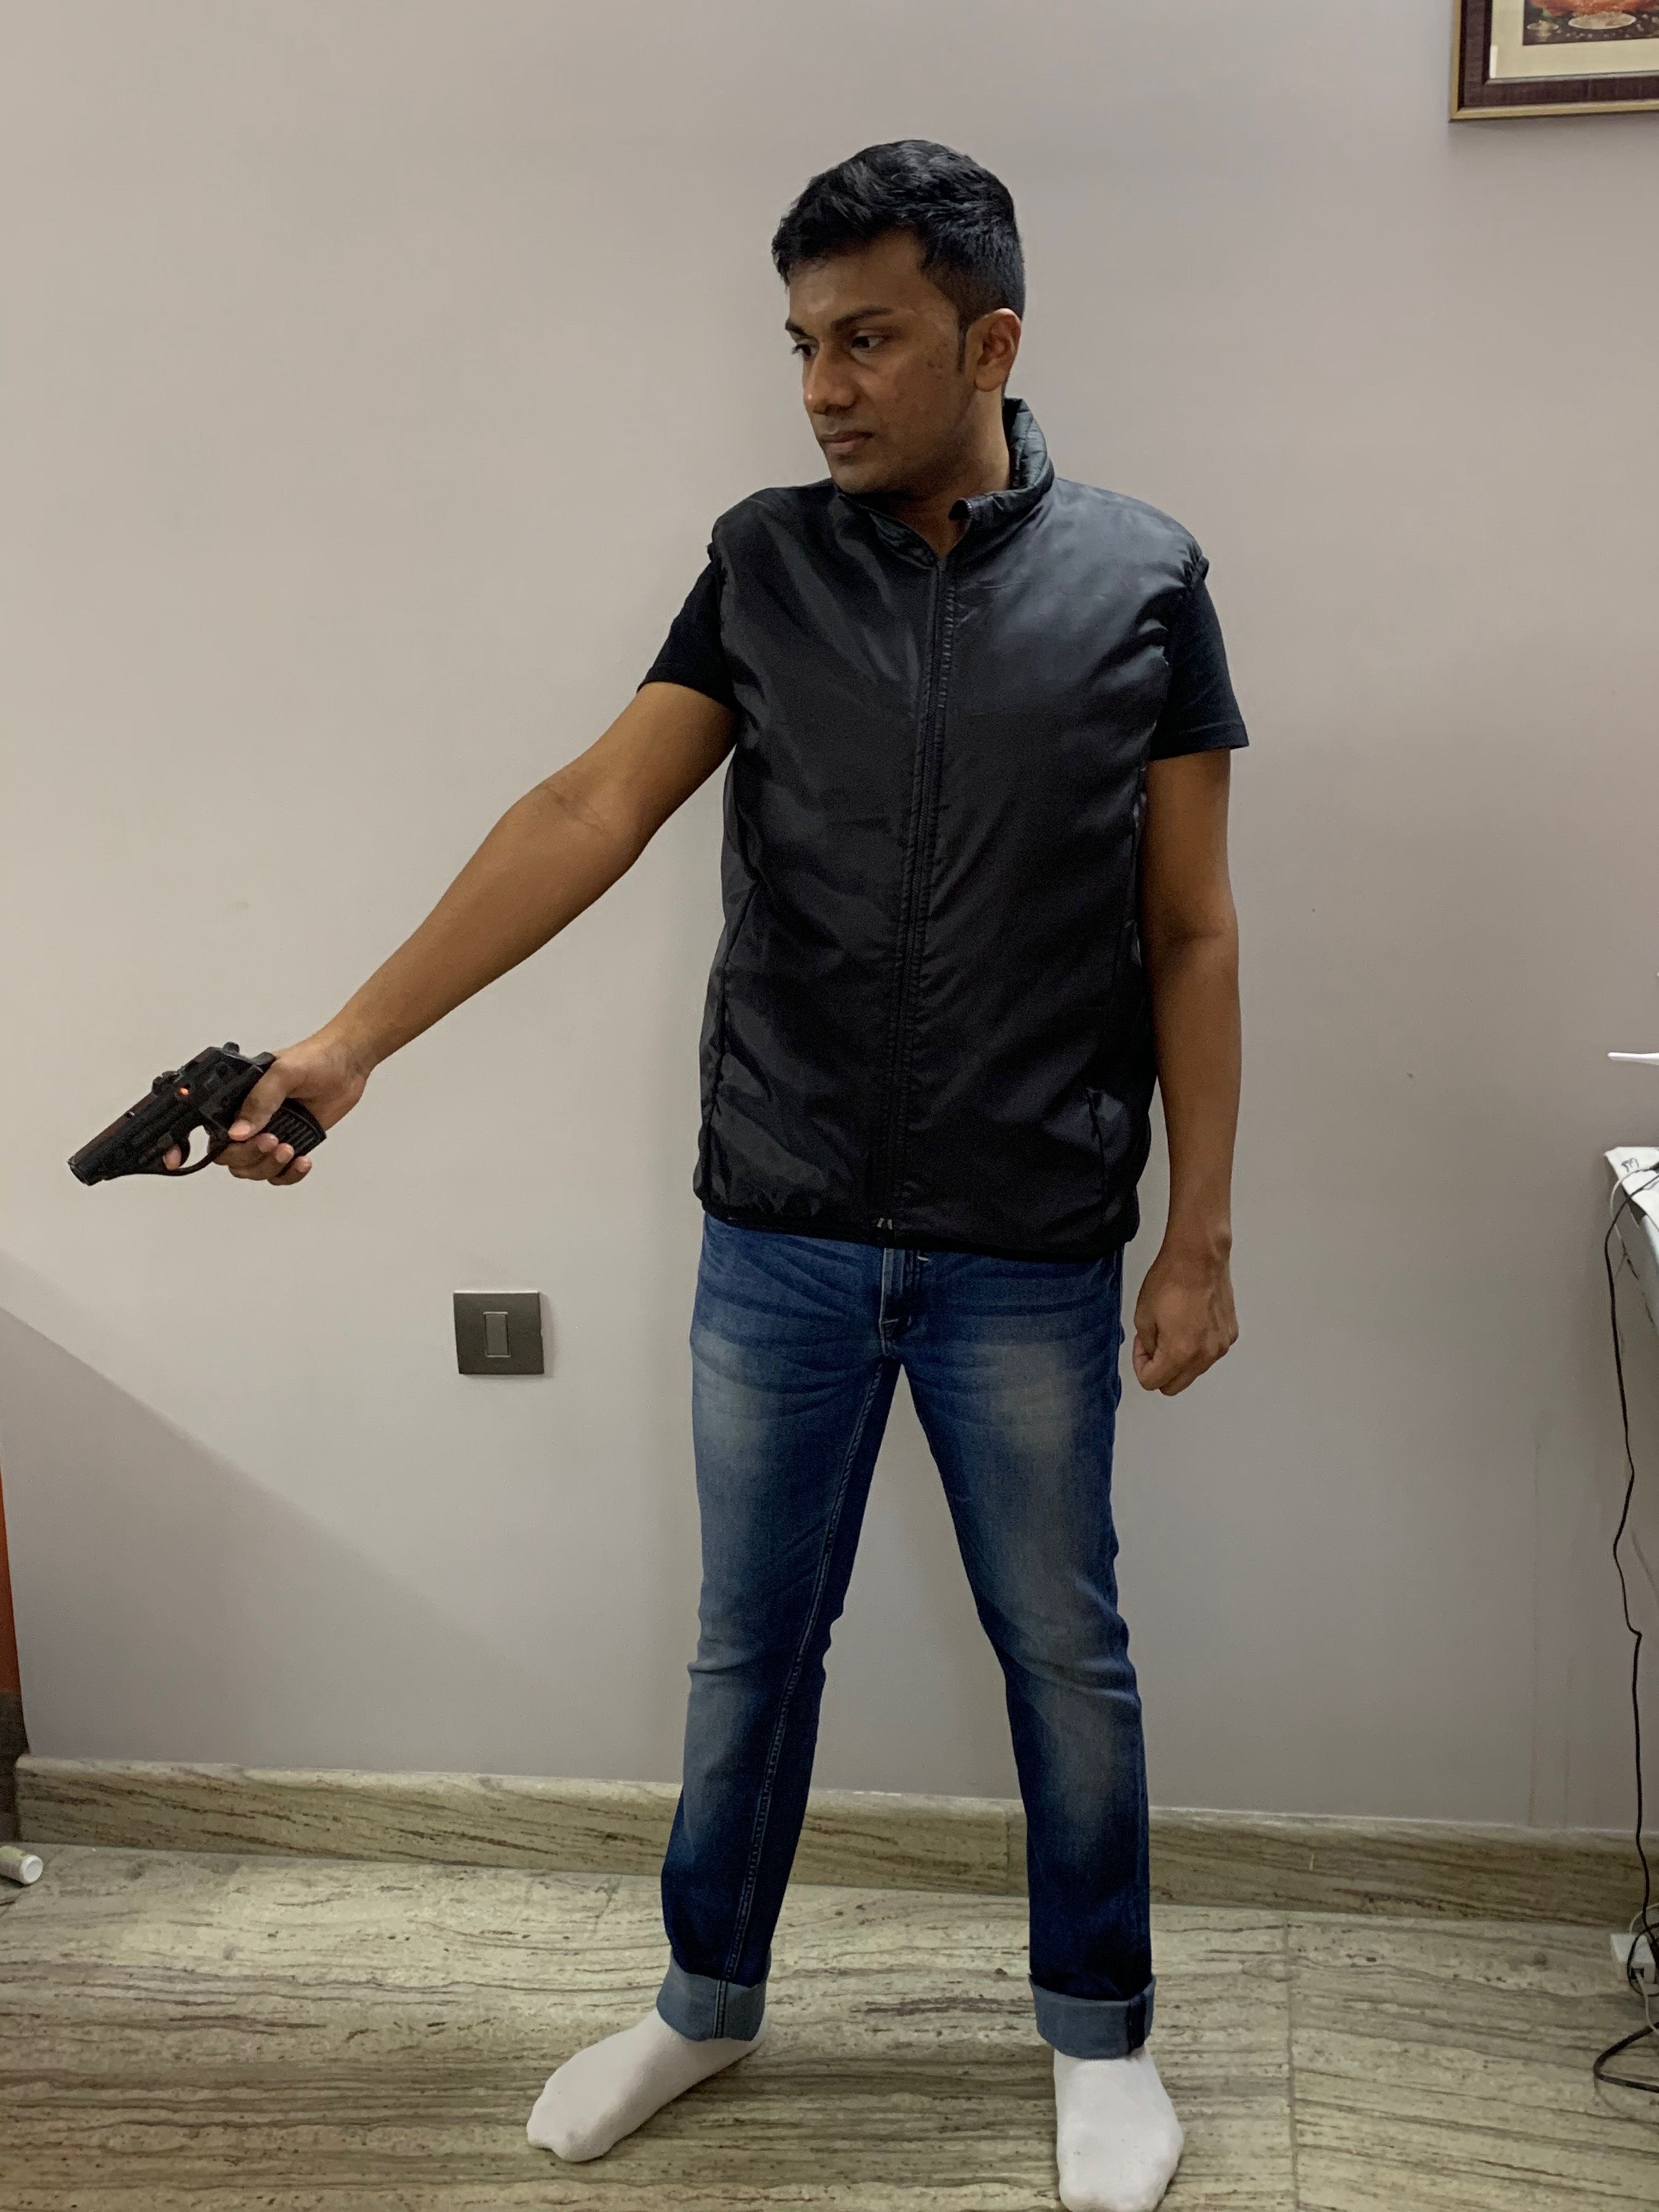gun: (61, 1036, 333, 1233)
